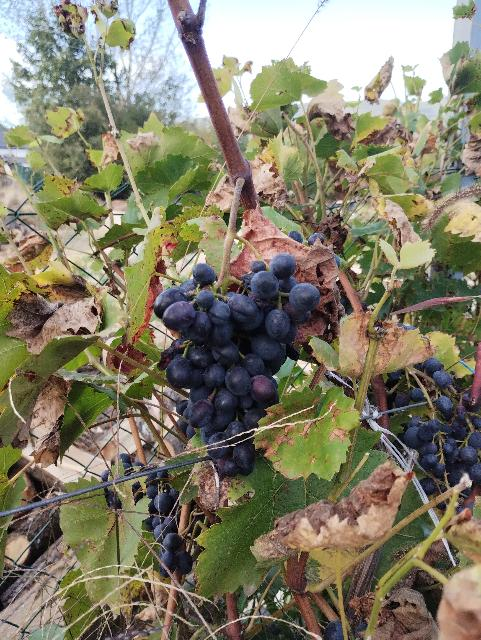grapes: (154, 252, 320, 478)
